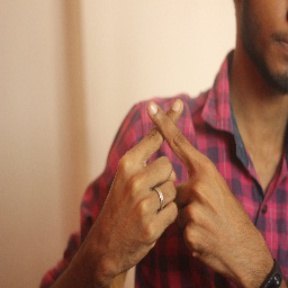X: (115, 91, 224, 209)
